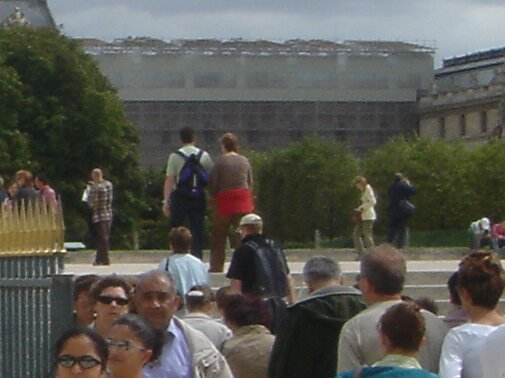person: (336, 246, 449, 368), (130, 270, 214, 377), (445, 246, 505, 356), (162, 125, 214, 248), (368, 297, 437, 373), (211, 133, 246, 257)
